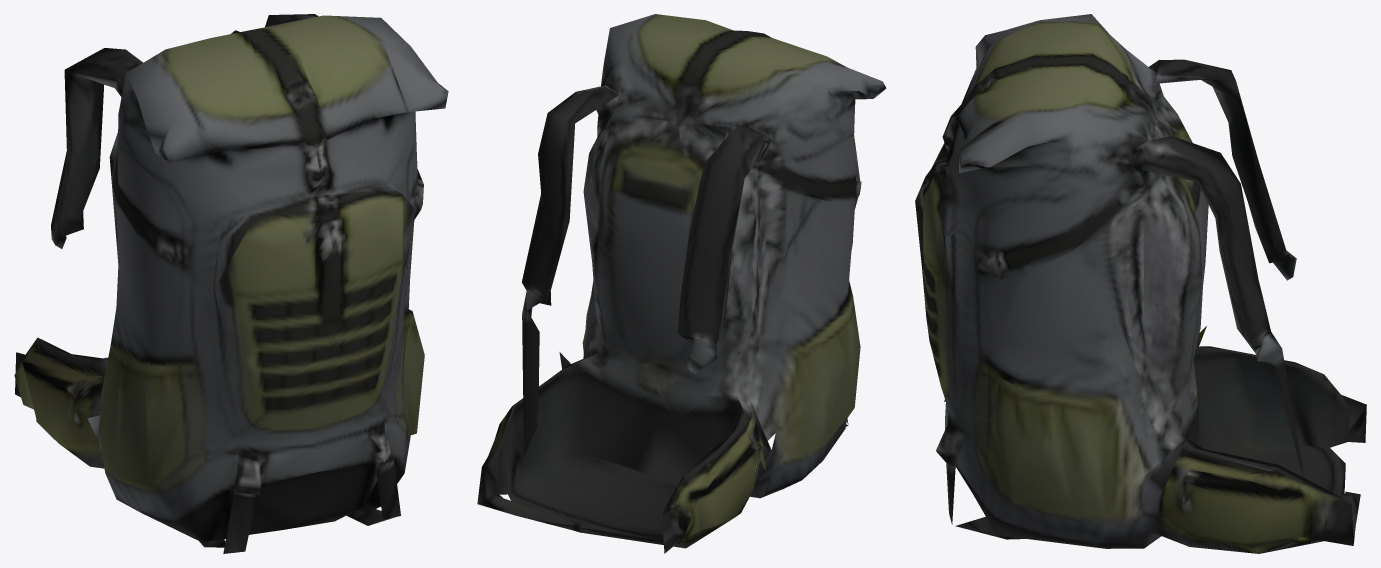
The model's file is tas_ransel.glb.
The picture shows the model from 3 angles, left to right: view 1: azimuth 30°, elevation 25°; view 2: azimuth 150°, elevation 25°; view 3: azimuth 270°, elevation 25°; orthographic projection. The views are drawn at different scales.
Parts seen in each view (by area): view 1: tripo_node_fffae515-69fe-4355-b12d-b7402e3358c9.001; view 2: tripo_node_fffae515-69fe-4355-b12d-b7402e3358c9.001; view 3: tripo_node_fffae515-69fe-4355-b12d-b7402e3358c9.001.
Part boxes in pixels (box(x1,y1,x2,y2)): tripo_node_fffae515-69fe-4355-b12d-b7402e3358c9.001: box(14, 14, 448, 553); tripo_node_fffae515-69fe-4355-b12d-b7402e3358c9.001: box(477, 14, 886, 553); tripo_node_fffae515-69fe-4355-b12d-b7402e3358c9.001: box(915, 14, 1366, 553).
Bounding box in the file's own units: 19.96 × 31.67 × 28.79.
Materials: 1 (1 with a texture image).
